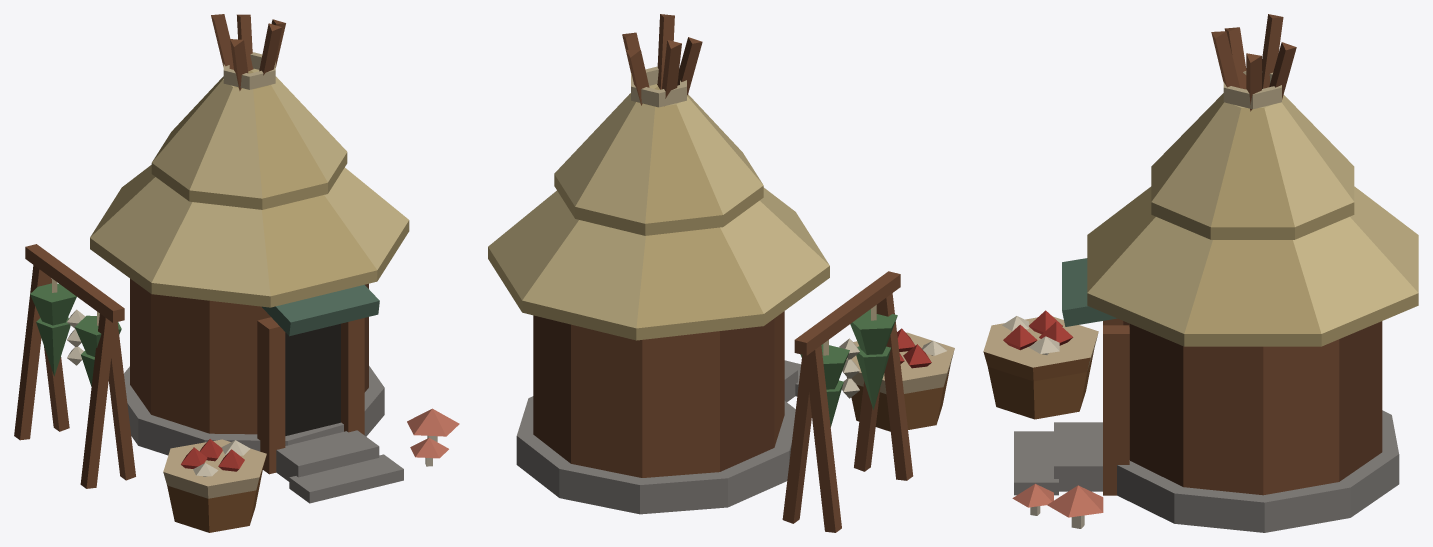
Rendered from gatherers_hut.glb.
The picture shows the model from 3 angles, left to right: view 1: azimuth 30°, elevation 25°; view 2: azimuth 150°, elevation 25°; view 3: azimuth 270°, elevation 25°; orthographic projection. The views are drawn at different scales.
Visible parts, largest first — view 1: gatherers_hut; view 2: gatherers_hut; view 3: gatherers_hut.
Boxes of the visible parts, left/top/right/bottom form: gatherers_hut: left=14, top=14, right=459, bottom=532; gatherers_hut: left=488, top=14, right=954, bottom=532; gatherers_hut: left=983, top=14, right=1418, bottom=532.
Bounding box in the file's own units: 0.3658 × 0.4224 × 0.3761.
